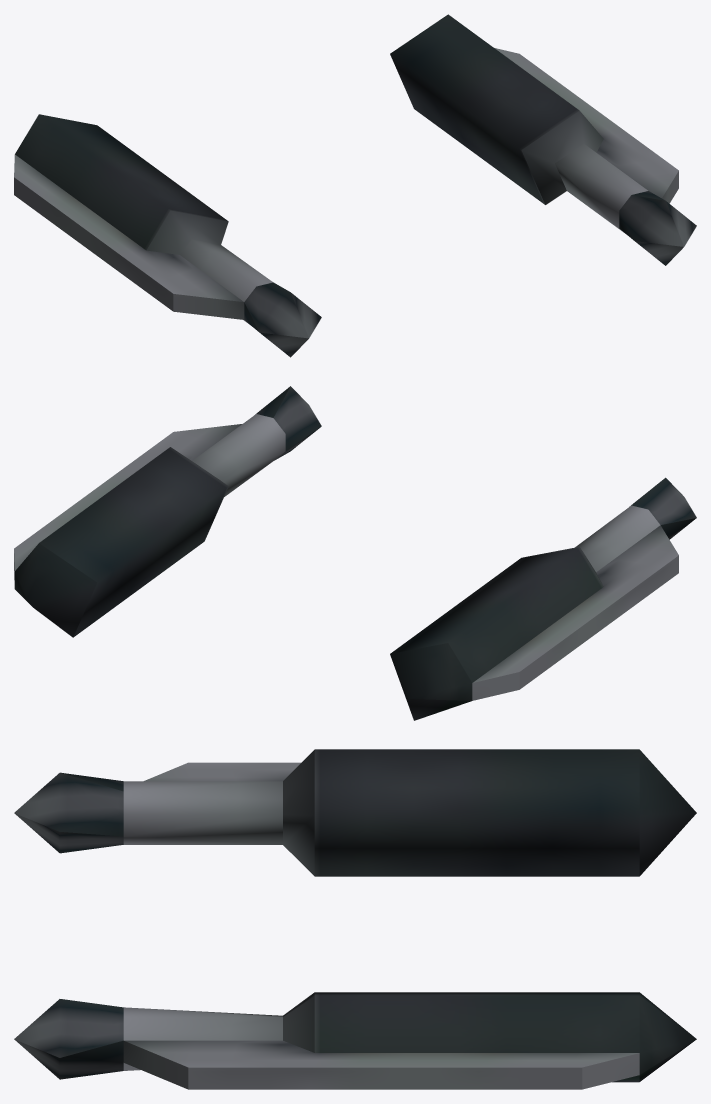
The model's file is tie_aggressor_turret_barrel_l2.fbx.
3 views of the same model, one above another, from view 1: azimuth 30°, elevation 25°; view 2: azimuth 150°, elevation 25°; view 3: azimuth 270°, elevation 25° (orthographic). The views are drawn at different scales.
Visible parts, largest first — view 1: mesh_node; view 2: mesh_node; view 3: mesh_node.
Part boxes in pixels (x1,y1,x2,y2): mesh_node: (14,14,696,357); mesh_node: (14,386,696,720); mesh_node: (14,749,696,1089).
Size of the model in its own units: 1.13 by 0.1848 by 1.07.
